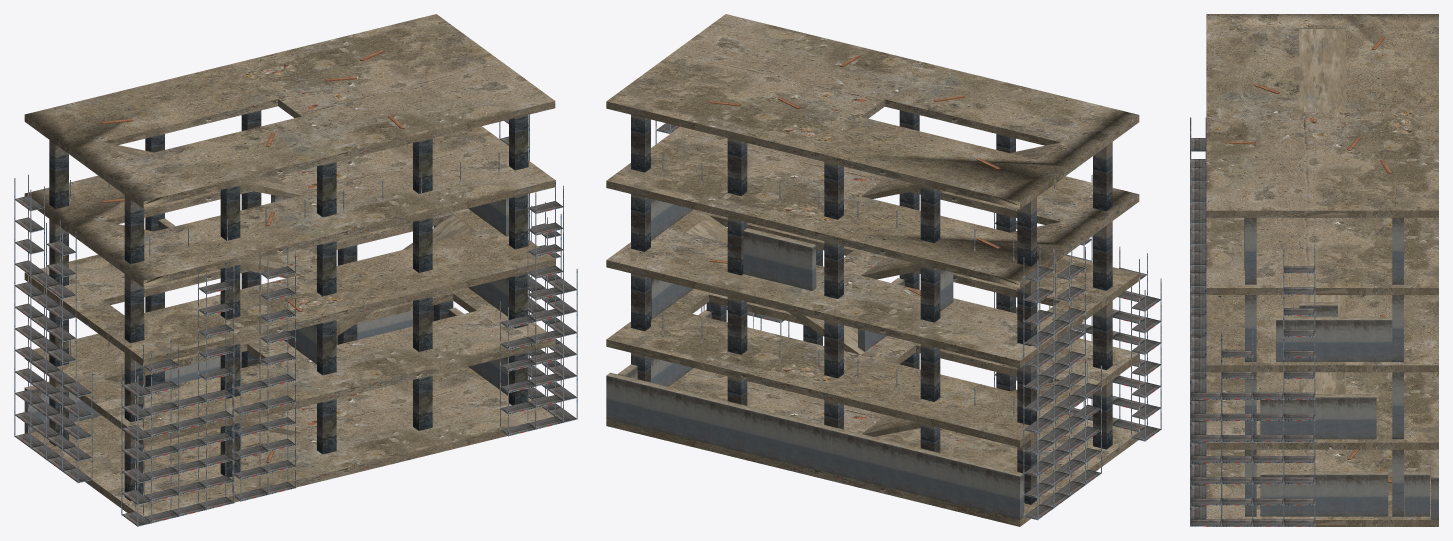
Rendered from Blender_LowPolyConstructionField02.fbx.
3 views of the same model, side by side, from view 1: azimuth 30°, elevation 25°; view 2: azimuth 150°, elevation 25°; view 3: azimuth 270°, elevation 25° (orthographic). The views are drawn at different scales.
Parts seen in each view (by area): view 1: BaseRampTop.002, BaseRampTop.001, BaseRampMidpiece.003, BaseRampFloor.002, BaseRampMidpiece.001, ConcretePillar.007, ConcretePillar.005, ConcretePillar.003, ConcretePillar, IronFloorWithPillars.008, IronFloorWithPillars.003, IronFloorWithPillars.005 (+21 smaller); view 2: BaseRampTop.002, BaseRampTop.001, BaseRampMidpiece.001, BaseRampMidpiece.003, ConcreteWall, BaseRampFloor.002, ConcretePillar.011, ConcretePillar.004, ConcretePillar.006, IronFloorWithPillars.008, ConcreteWall.006, IronFloorWithPillars.011 (+12 smaller); view 3: BaseRampTop.002, BaseRampTop.001, BaseRampMidpiece.003, BaseRampMidpiece.001, BaseRampFloor.002, ConcreteWall.007, ConcreteWall.002, ConcreteWall.003, IronFloorWithPillars.016, IronFloorWithPillars.012, IronFloorWithPillars.015, IronFloorWithPillars.014 (+15 smaller).
Boxes of the visible parts, box(x1,y1,x2,y2) form: BaseRampTop.002: box(24, 14, 555, 208); BaseRampTop.001: box(24, 126, 554, 287); BaseRampMidpiece.003: box(24, 208, 554, 365); BaseRampFloor.002: box(24, 366, 554, 516); BaseRampMidpiece.001: box(24, 215, 554, 445); ConcretePillar.007: box(124, 115, 528, 264); ConcretePillar.005: box(124, 194, 528, 343); ConcretePillar.003: box(124, 273, 528, 422); ConcretePillar: box(124, 352, 528, 501); IronFloorWithPillars.008: box(14, 174, 44, 448); IronFloorWithPillars.003: box(198, 260, 234, 509); IronFloorWithPillars.005: box(259, 245, 295, 494); BaseRampTop.002: box(606, 14, 1139, 209); BaseRampTop.001: box(606, 126, 1139, 288); BaseRampMidpiece.001: box(606, 215, 1138, 447); BaseRampMidpiece.003: box(606, 209, 1138, 367); ConcreteWall: box(606, 372, 1023, 519); BaseRampFloor.002: box(606, 368, 1138, 526); ConcretePillar.011: box(631, 114, 1036, 266); ConcretePillar.004: box(631, 273, 1036, 425); ConcretePillar.006: box(631, 194, 1036, 345); IronFloorWithPillars.008: box(1023, 245, 1054, 520); ConcreteWall.006: box(743, 228, 816, 290); IronFloorWithPillars.011: box(1055, 244, 1085, 496); BaseRampTop.002: box(1206, 14, 1438, 217); BaseRampTop.001: box(1206, 29, 1438, 294); BaseRampMidpiece.003: box(1206, 295, 1438, 372); BaseRampMidpiece.001: box(1206, 372, 1438, 449); BaseRampFloor.002: box(1206, 295, 1438, 526); ConcreteWall.007: box(1260, 471, 1388, 516); ConcreteWall.002: box(1276, 316, 1392, 361); ConcreteWall.003: box(1260, 394, 1376, 439); IronFloorWithPillars.016: box(1283, 245, 1315, 526); IronFloorWithPillars.012: box(1190, 274, 1206, 519); IronFloorWithPillars.015: box(1221, 330, 1253, 526); IronFloorWithPillars.014: box(1190, 372, 1222, 526).
Bounding box in the file's own units: 6414 × 4510 × 3207.
